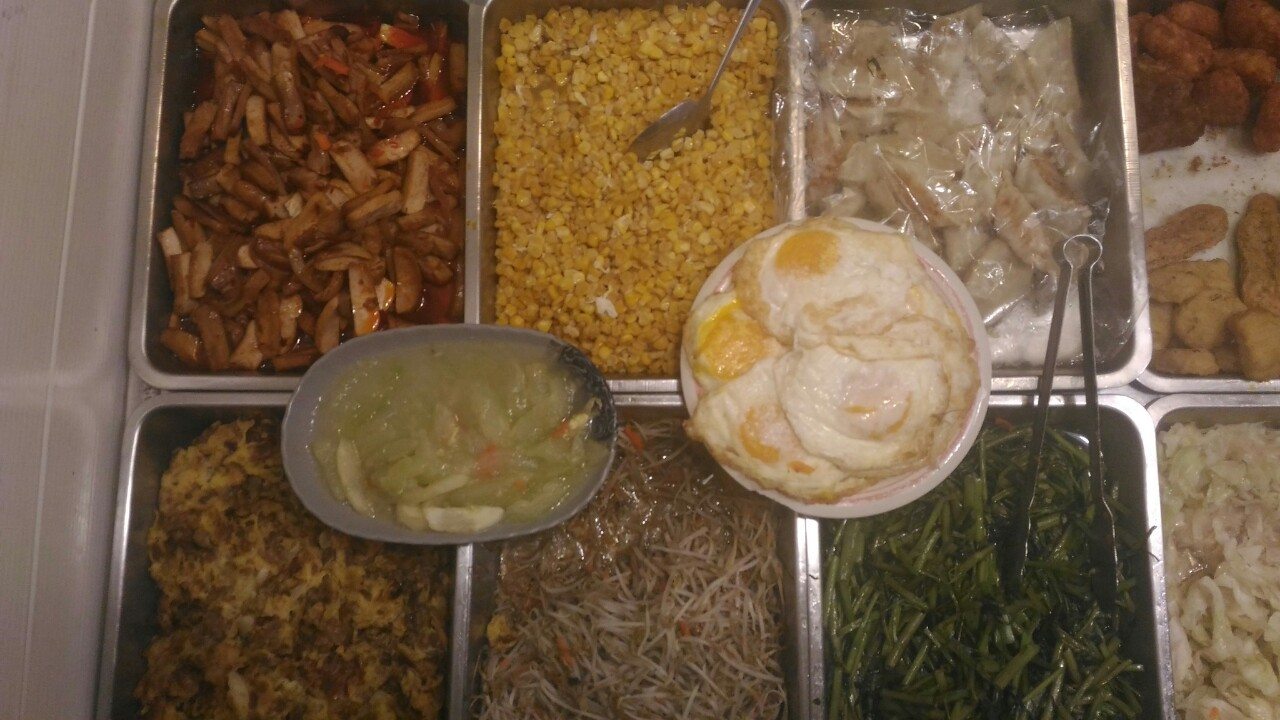chicken_nuggets: (1149, 268, 1280, 378)
chinese_cabbage: (1164, 419, 1280, 719)
fried_eggs: (695, 220, 971, 491)
mung_bean_sprouts: (493, 536, 785, 712)
triangle_hash_brown: (1137, 1, 1280, 148)
water_spinach: (839, 443, 1119, 720)
